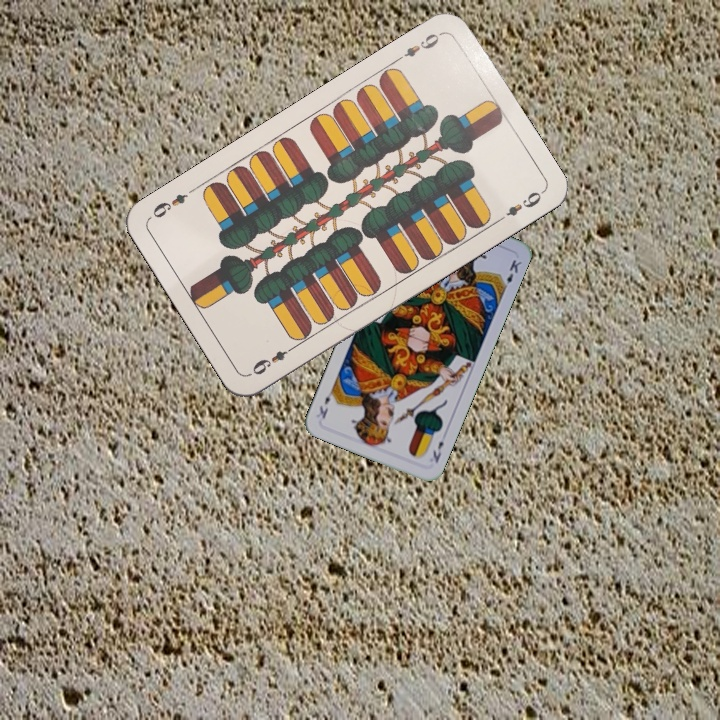E9: (391, 28, 445, 65), (248, 341, 299, 378)
EK: (428, 437, 446, 466)
